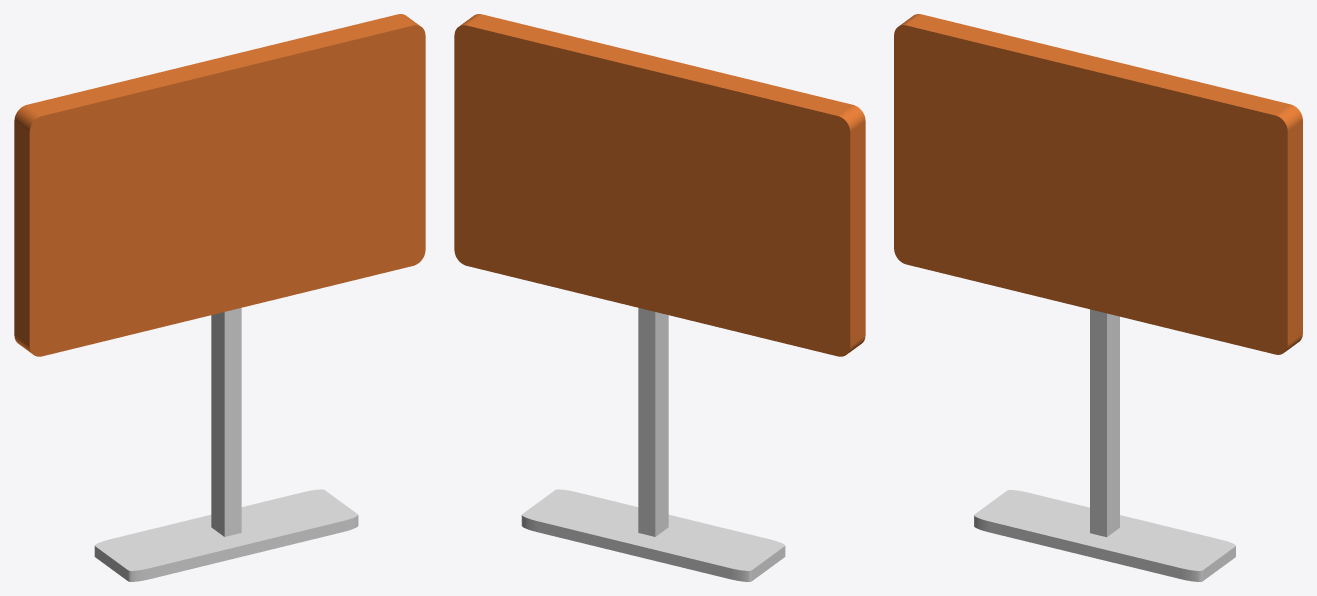
File: road_closed.fbx
3 views of the same model, side by side, from view 1: azimuth 30°, elevation 25°; view 2: azimuth 150°, elevation 25°; view 3: azimuth 330°, elevation 25° (orthographic).
Visible parts, largest first — view 1: Cube, Cube.002, Cube.001; view 2: Cube, Cube.002, Cube.001; view 3: Cube, Cube.002, Cube.001.
Boxes of the visible parts, x1,y1,x2,y2 form: Cube: (14, 14, 425, 356); Cube.002: (94, 489, 358, 581); Cube.001: (211, 308, 241, 536); Cube: (454, 14, 865, 356); Cube.002: (521, 489, 785, 581); Cube.001: (638, 308, 668, 536); Cube: (894, 14, 1302, 354); Cube.002: (974, 490, 1235, 581); Cube.001: (1090, 309, 1119, 537).
Size of the model in its own units: 345 by 397 by 59.59.
